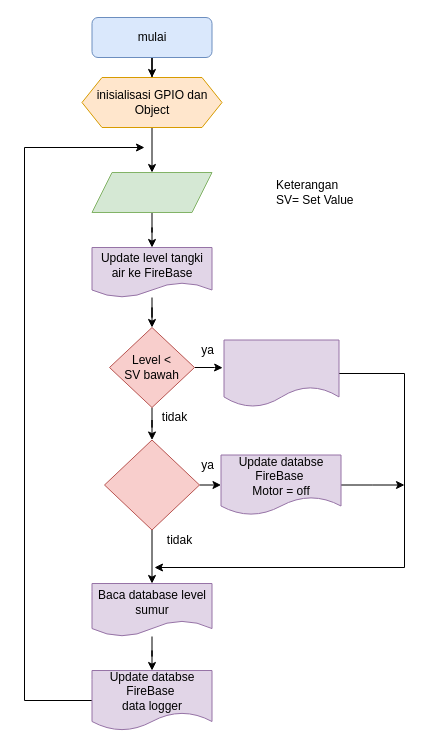
The diagram is 430 pixels wide and 748 high, and some of its shapes have lost their labels. The centre of each missing label's shape, as x and y in pixels:
Baca level tangki: the point at 151,192
Reset Level < SV atas: the point at 152,484
Update databse FireBase Motor = on: the point at 281,373
